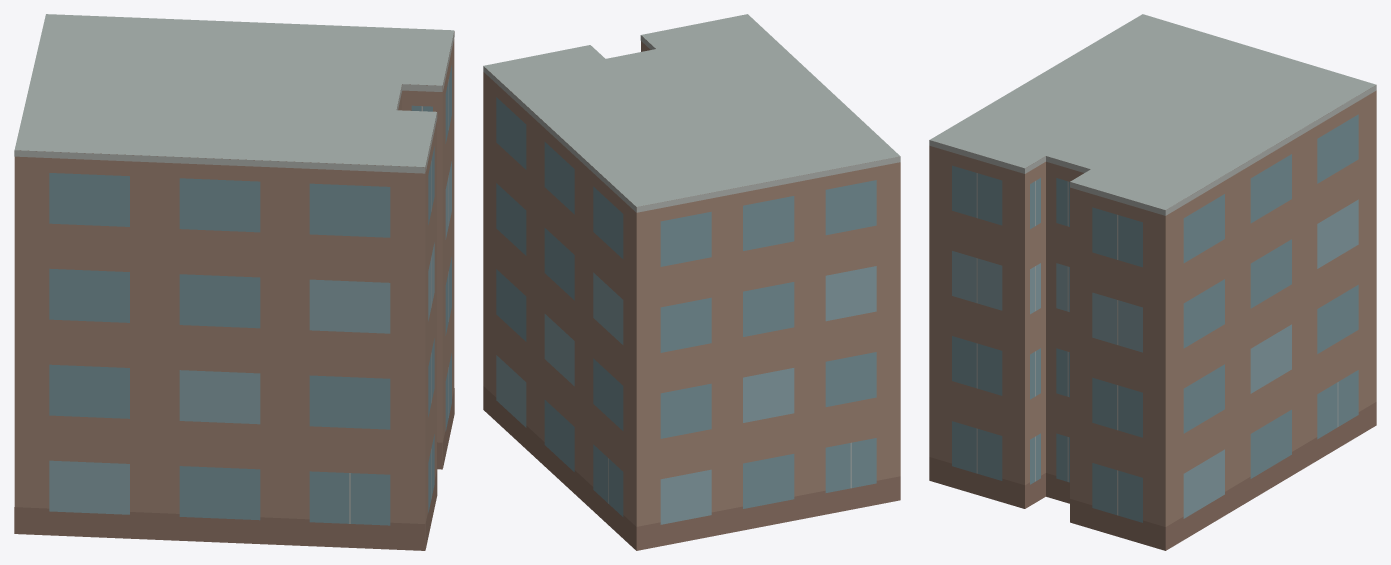
File: survey-upis-32850015.glb
The picture shows the model from 3 angles, left to right: view 1: azimuth 30°, elevation 25°; view 2: azimuth 150°, elevation 25°; view 3: azimuth 270°, elevation 25°; orthographic projection. The views are drawn at different scales.
Visible parts, largest first — view 1: survey-upis-32850015.tmp; view 2: survey-upis-32850015.tmp; view 3: survey-upis-32850015.tmp.
Part boxes in pixels (left/top/right/bottom): survey-upis-32850015.tmp: left=14, top=14, right=454, bottom=550; survey-upis-32850015.tmp: left=483, top=14, right=900, bottom=550; survey-upis-32850015.tmp: left=929, top=14, right=1376, bottom=550.
Bounding box in the file's own units: 17.98 × 14.55 × 17.31.
